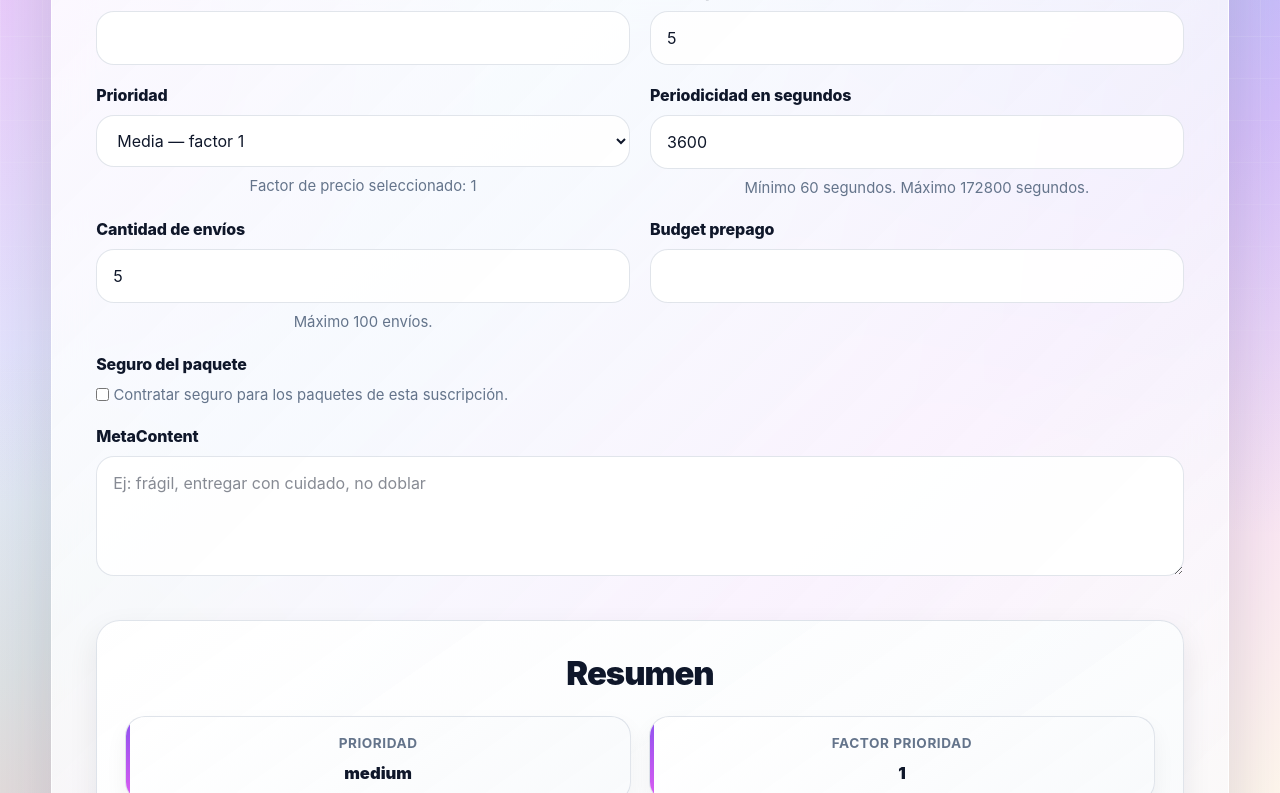
CreateSubscriptionPage › muestra prima de seguro cuando el seguro está activo
The image size is (1280, 793).
(page scrolled)
Click the checkbox named "contratar seguro".
click(103, 394)  # box x1=96 y1=388 x2=109 y2=401
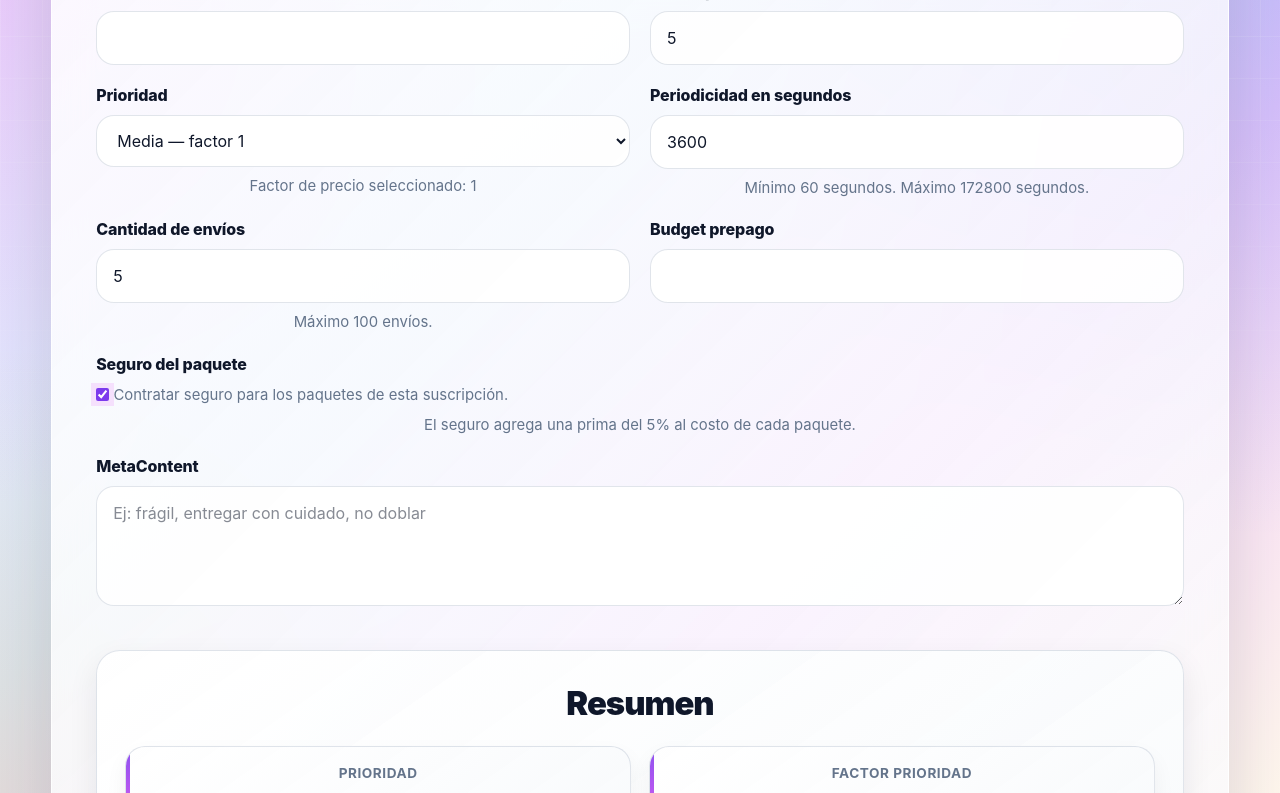
Check: the text "El seguro agrega una prima del 5% al costo de cada paquete." is shown, box x1=424 y1=416 x2=856 y2=434
